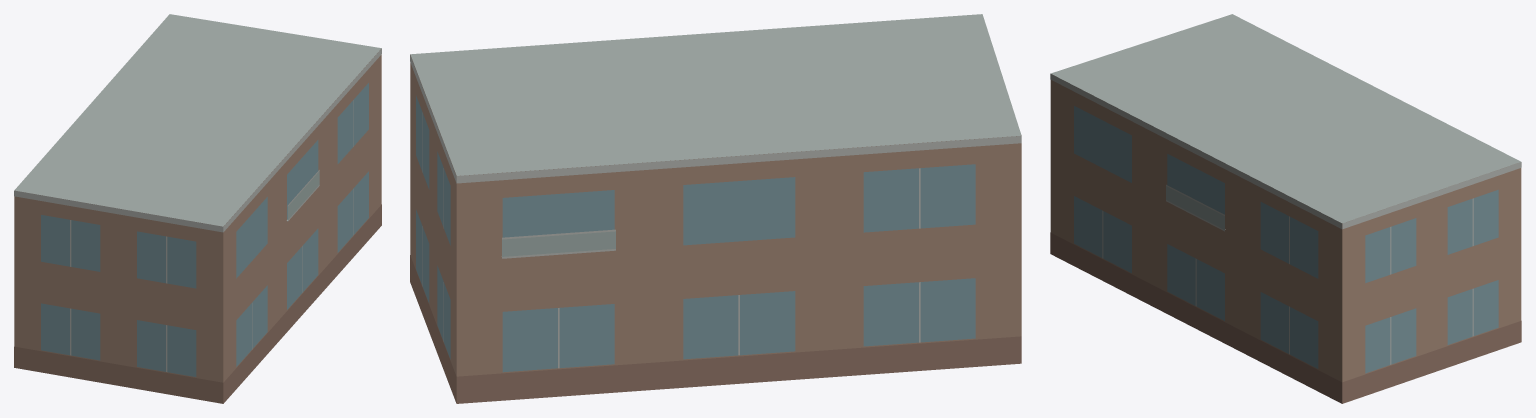
File: survey-upis-32969534.glb
The picture shows the model from 3 angles, left to right: view 1: azimuth 30°, elevation 25°; view 2: azimuth 150°, elevation 25°; view 3: azimuth 270°, elevation 25°; orthographic projection. The views are drawn at different scales.
Visible parts, largest first — view 1: survey-upis-32969534.tmp; view 2: survey-upis-32969534.tmp; view 3: survey-upis-32969534.tmp.
Boxes of the visible parts, bbox=[...] form: survey-upis-32969534.tmp: bbox=[14, 14, 381, 403]; survey-upis-32969534.tmp: bbox=[410, 14, 1021, 403]; survey-upis-32969534.tmp: bbox=[1050, 14, 1521, 403].
Size of the model in its own units: 18.43 by 7.4 by 17.51.
